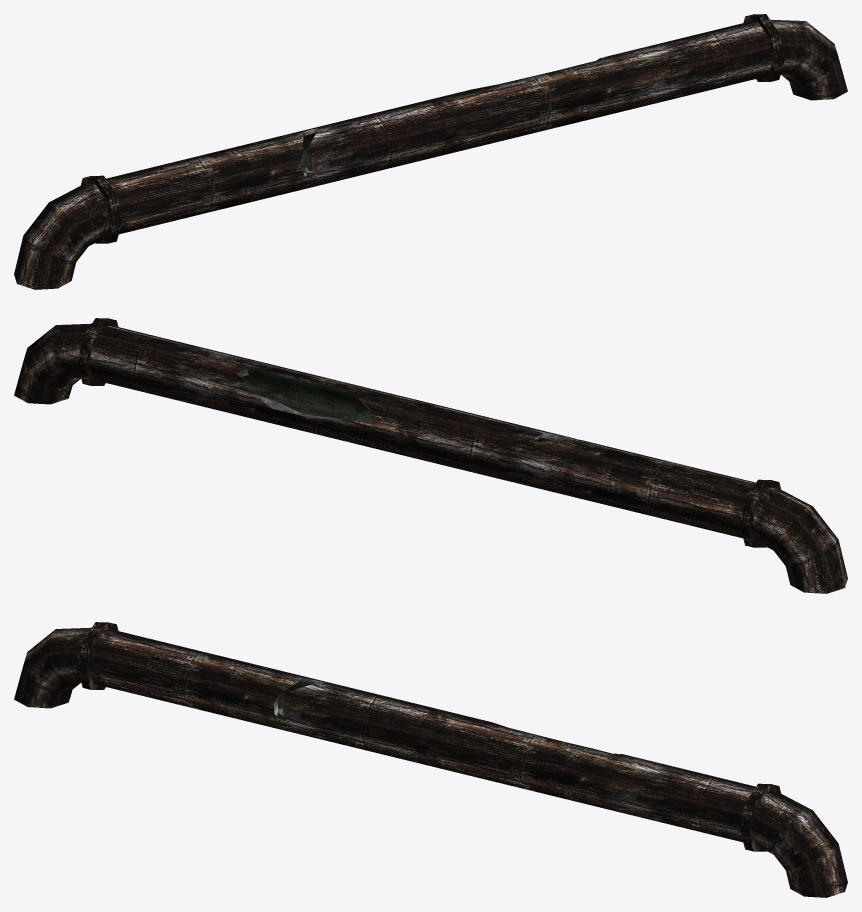
File: curved_ends_rusty_4m.fbx
3 views of the same model, one above another, from view 1: azimuth 30°, elevation 25°; view 2: azimuth 150°, elevation 25°; view 3: azimuth 330°, elevation 25° (orthographic).
Visible parts, largest first — view 1: mesh_0; view 2: mesh_0; view 3: mesh_0.
Part boxes in pixels (<box>): mesh_0: <box>14,14,847,289</box>; mesh_0: <box>14,318,847,593</box>; mesh_0: <box>14,622,847,897</box>.
Bounding box in the file's own units: 400 × 40.17 × 30.47.
1 material, 1 textured.
